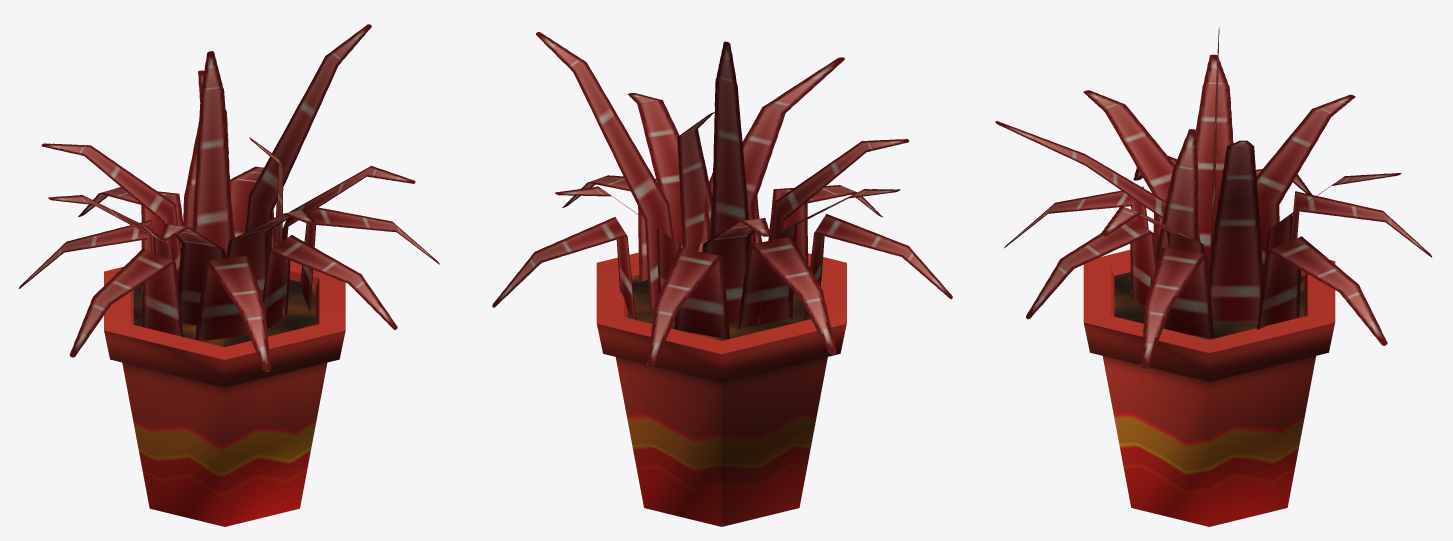
File: Potted Plant_E_2.FBX
3 views of the same model, side by side, from view 1: azimuth 30°, elevation 25°; view 2: azimuth 150°, elevation 25°; view 3: azimuth 270°, elevation 25° (orthographic). The views are drawn at different scales.
Visible parts, largest first — view 1: Potted Plant; view 2: Potted Plant; view 3: Potted Plant.
Boxes of the visible parts, x1,y1,x2,y2 form: Potted Plant: [18, 24, 439, 526]; Potted Plant: [492, 32, 952, 526]; Potted Plant: [995, 27, 1432, 526].
Bounding box in the file's own units: 141 × 152 × 134.
Materials: 2 (2 with a texture image).
